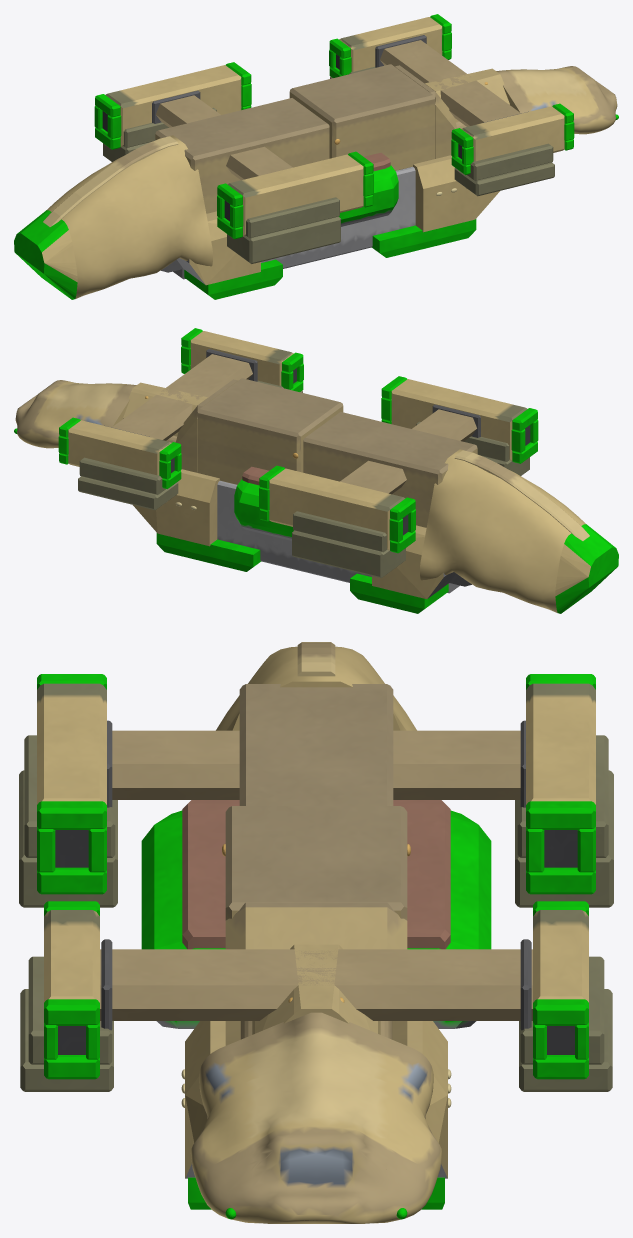
File: dropship.glb
3 renders of one model, top to bottom at view 1: azimuth 30°, elevation 25°; view 2: azimuth 150°, elevation 25°; view 3: azimuth 270°, elevation 25°, orthographic. The views are drawn at different scales.
Parts seen in each view (by area): view 1: cabin_front, cabin_back, nacelle_rear_2, beam_front, nacelle_rear, front_block, nacelle_front_2, tail_end, bay, thruster_lo_2, beam_rear, nacelle_front (+33 smaller); view 2: cabin_front, cabin_back, nacelle_rear, beam_front, nacelle_rear_2, front_block, nacelle_front, tail_end, bay, thruster_lo, beam_rear, nacelle_front_2 (+33 smaller); view 3: beam_front, cabin_back, cabin_front, beam_rear, brow, nacelle_rear, nacelle_rear_2, deck, deck_2, front_block, sponson, sponson_2 (+51 smaller).
Boxes of the visible parts, x1,y1,x2,y2 form: cabin_front: (289, 64, 435, 170); cabin_back: (155, 98, 329, 213); nacelle_rear_2: (227, 154, 363, 236); beam_front: (380, 40, 520, 126); nacelle_rear: (105, 65, 241, 146); front_block: (413, 155, 499, 232); nacelle_front_2: (461, 106, 564, 161); tail_end: (14, 210, 77, 299); bay: (261, 166, 415, 268); thruster_lo_2: (227, 216, 340, 263); beam_rear: (156, 95, 292, 180); nacelle_front: (339, 17, 442, 71); cabin_front: (197, 378, 343, 484); cabin_back: (303, 412, 477, 527); nacelle_rear: (269, 468, 405, 550); beam_front: (112, 354, 252, 440); nacelle_rear_2: (391, 379, 527, 460); front_block: (133, 469, 219, 546); nacelle_front: (68, 420, 171, 475); tail_end: (555, 524, 618, 613); bay: (217, 480, 371, 582); thruster_lo: (292, 530, 405, 577); beam_rear: (340, 409, 476, 494); nacelle_front_2: (190, 331, 293, 385); beam_front: (100, 949, 532, 1020); cabin_back: (239, 684, 393, 805); cabin_front: (225, 806, 407, 919); beam_rear: (112, 730, 520, 799); brow: (225, 902, 407, 1045); nacelle_rear: (526, 683, 595, 804); nacelle_rear_2: (37, 683, 106, 804); deck: (393, 800, 450, 949); deck_2: (182, 800, 239, 949); front_block: (185, 1021, 447, 1178); sponson: (407, 810, 491, 1028); sponson_2: (141, 810, 225, 1028).
Size of the model in its own units: 4.68 by 1.09 by 2.08.
